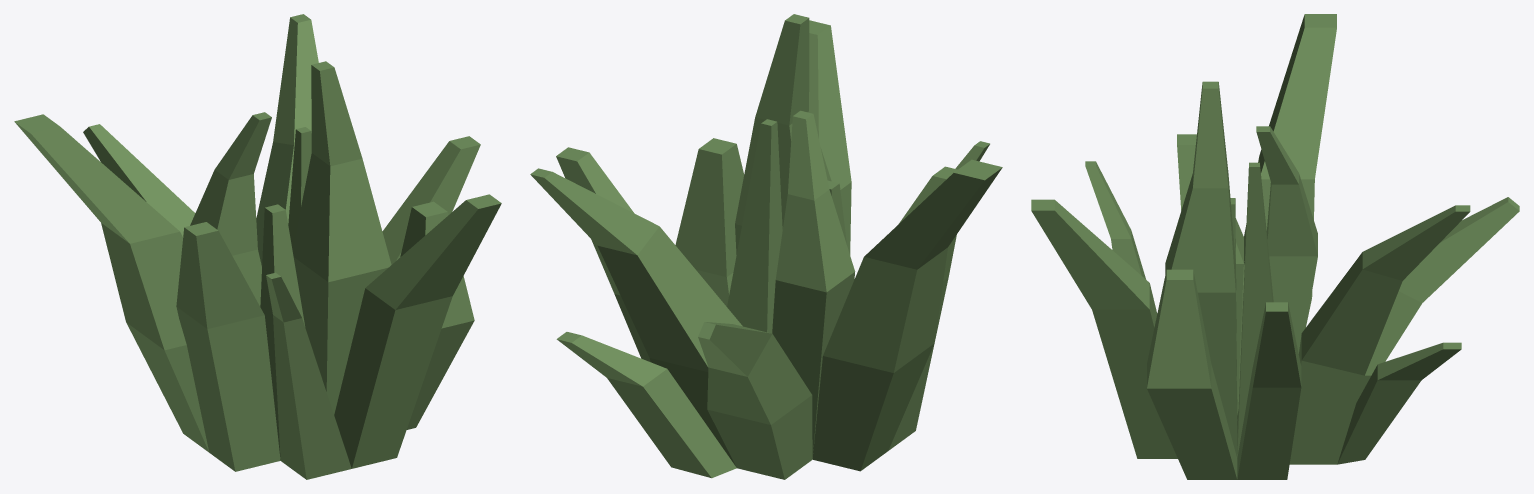
The model's file is Herbe1.fbx.
The picture shows the model from 3 angles, left to right: view 1: azimuth 30°, elevation 25°; view 2: azimuth 150°, elevation 25°; view 3: azimuth 270°, elevation 25°; orthographic projection. The views are drawn at different scales.
Parts seen in each view (by area): view 1: Grass; view 2: Grass; view 3: Grass.
Part boxes in pixels (bbox=[...]): Grass: bbox=[14, 14, 501, 479]; Grass: bbox=[530, 14, 1002, 479]; Grass: bbox=[1031, 14, 1519, 479].
Bounding box in the file's own units: 175 × 145 × 180.
